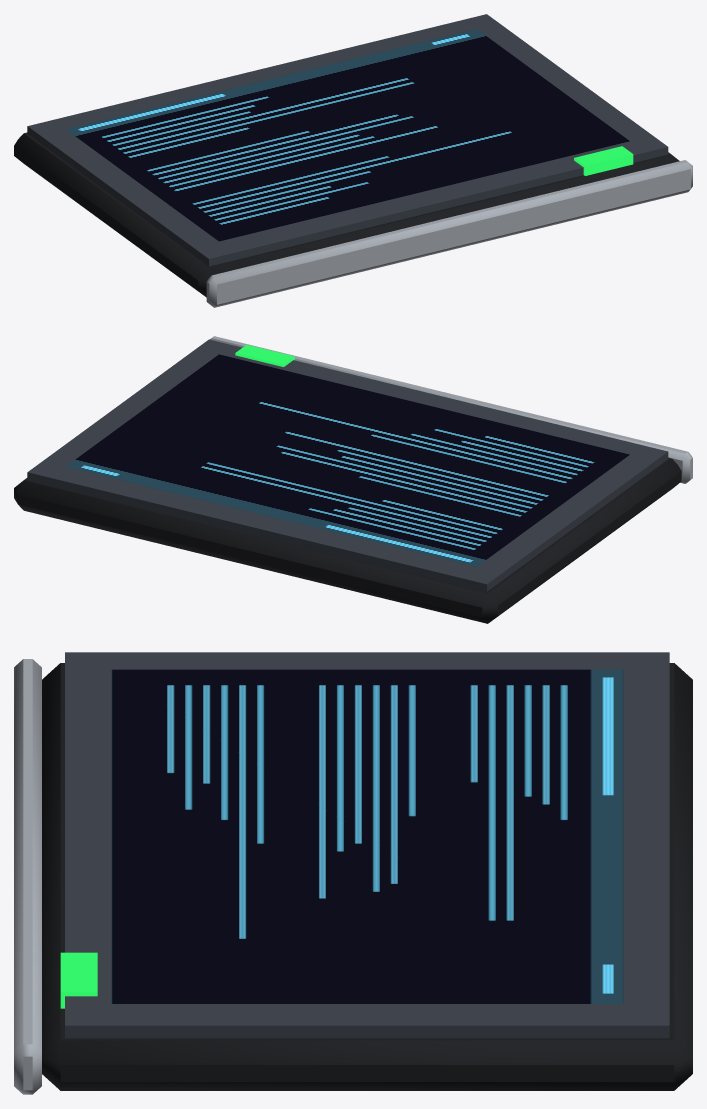
Rendered from terminal_datapad.glb.
3 views of the same model, one above another, from view 1: azimuth 30°, elevation 25°; view 2: azimuth 150°, elevation 25°; view 3: azimuth 270°, elevation 25° (orthographic). The views are drawn at different scales.
Visible parts, largest first — view 1: terminal_datapad; view 2: terminal_datapad; view 3: terminal_datapad.
Part boxes in pixels (left/top/right/bottom): terminal_datapad: left=14, top=14, right=692, bottom=307; terminal_datapad: left=14, top=336, right=692, bottom=623; terminal_datapad: left=14, top=652, right=692, bottom=1094.
Bounding box in the file's own units: 0.2 × 0.016 × 0.146.
5 materials, 1 textured.
